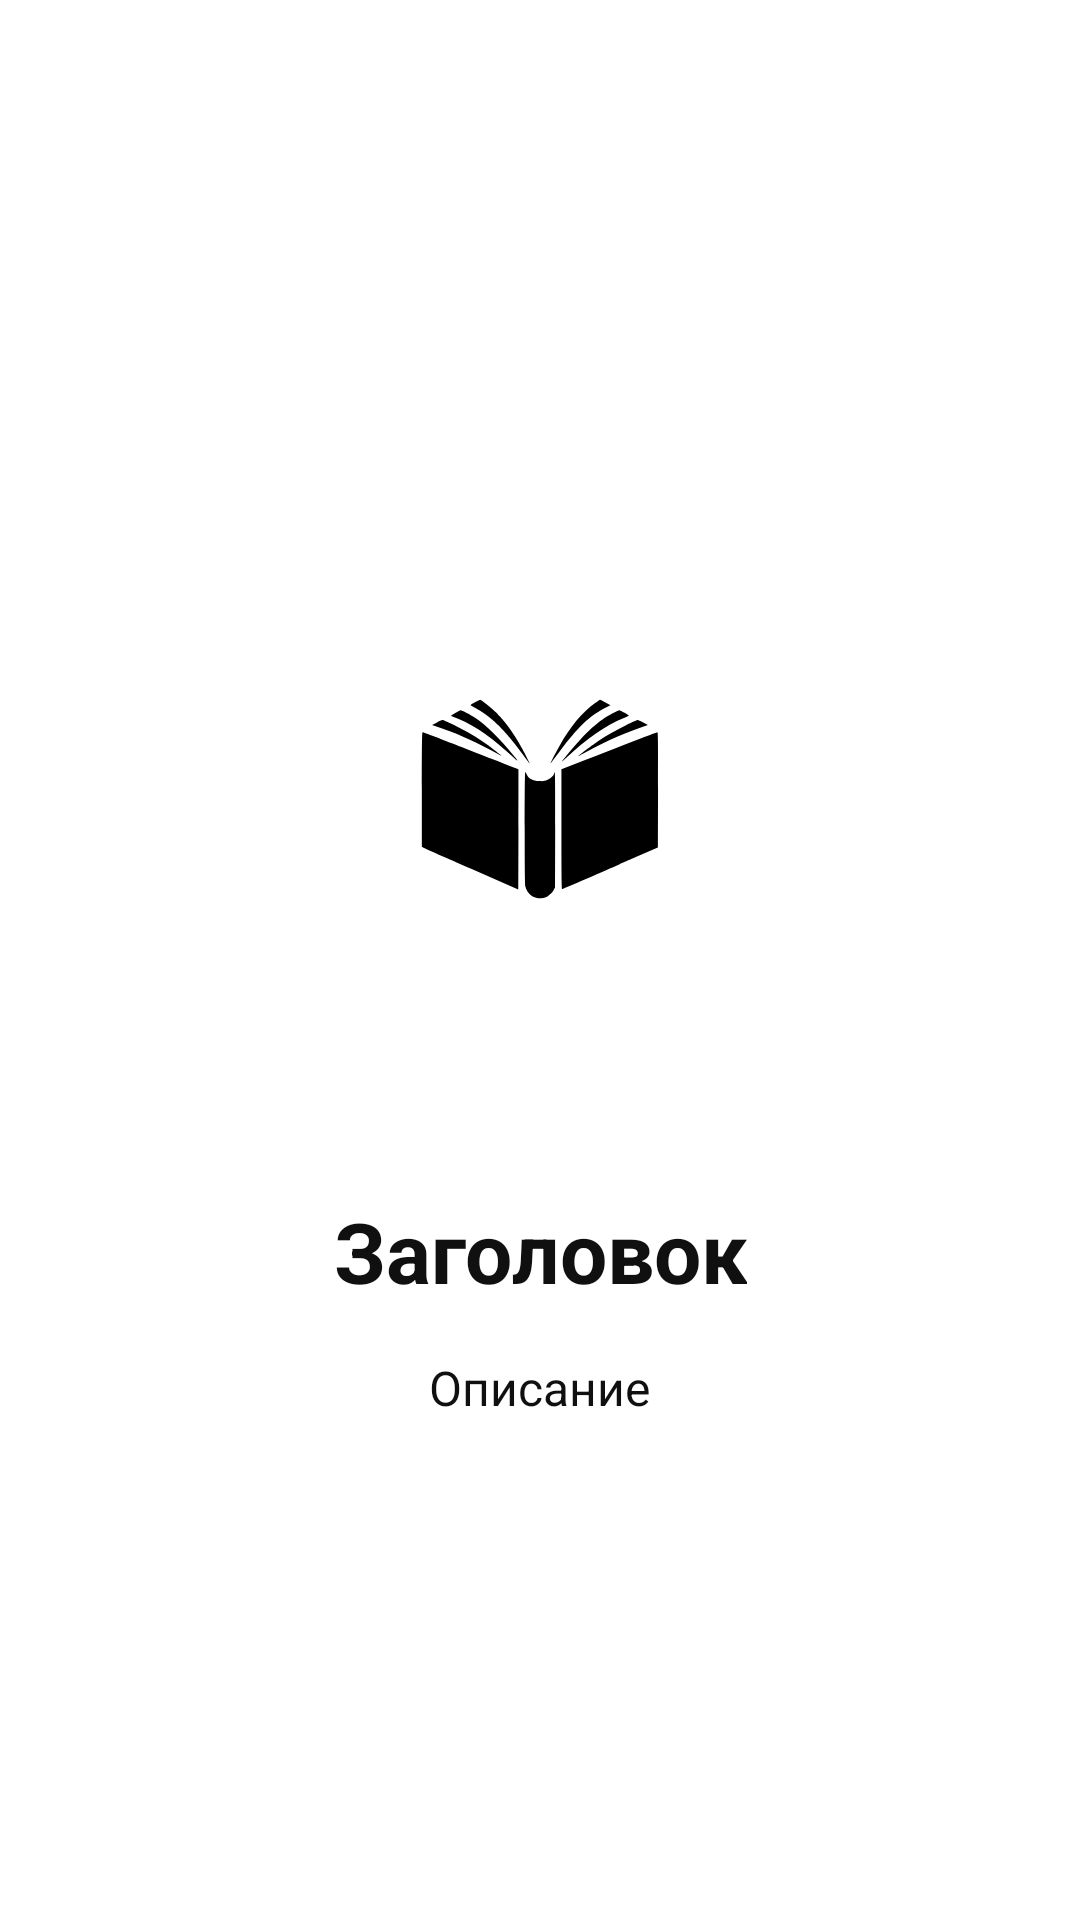

Screen size 1080×1920. Icon name, then its box in pixels as (x1, y1, x2, y2):
book: (421, 700, 658, 899)
